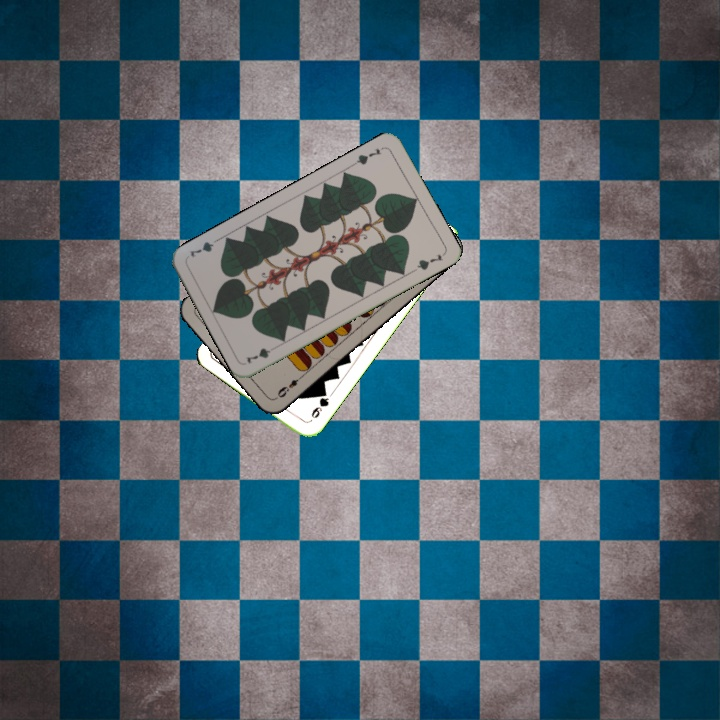E9: (273, 371, 306, 400)
G7: (242, 341, 281, 366), (349, 143, 386, 168)
G9: (307, 387, 332, 421)
